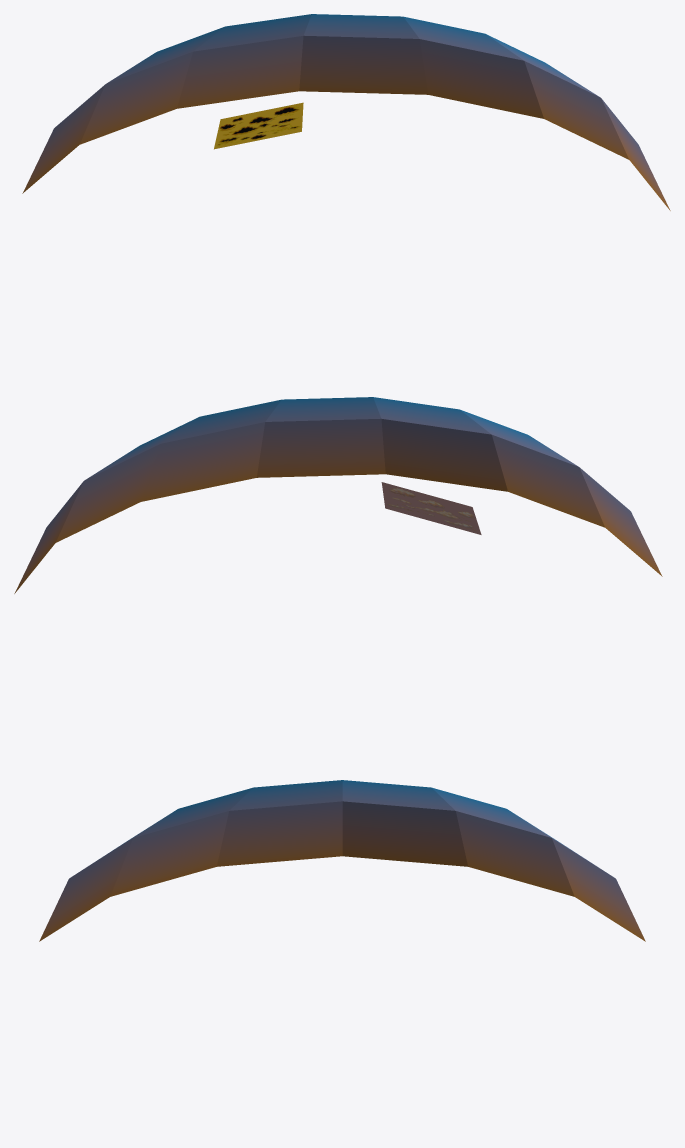
Rendered from vrcorn.glb.
3 renders of one model, top to bottom at view 1: azimuth 30°, elevation 25°; view 2: azimuth 150°, elevation 25°; view 3: azimuth 270°, elevation 25°, orthographic.
Parts seen in each view (by area): view 1: polygon0, polygon1; view 2: polygon0, polygon1; view 3: polygon0.
Part boxes in pixels (bbox=[...]): polygon0: bbox=[22, 14, 670, 210]; polygon1: bbox=[214, 102, 303, 149]; polygon0: bbox=[14, 397, 662, 593]; polygon1: bbox=[381, 482, 481, 534]; polygon0: bbox=[39, 780, 645, 941].
Bounding box in the file's own units: 6400 × 1725 × 6400.
Materials: 2 (1 with a texture image).
